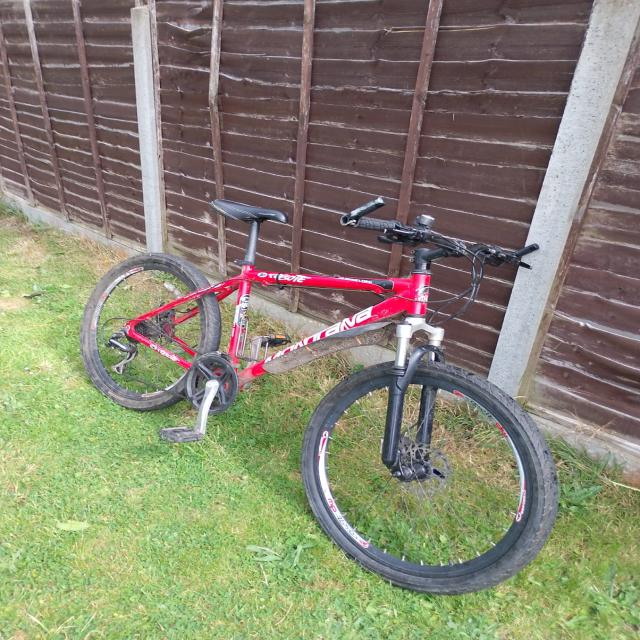bicycle: (77, 172, 602, 609)
